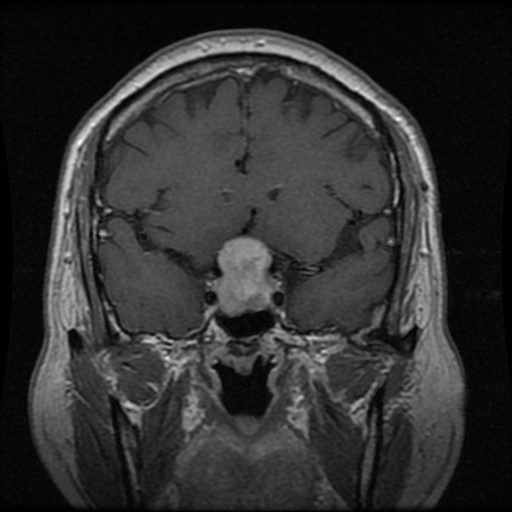pituitary: (215, 237, 274, 310)
